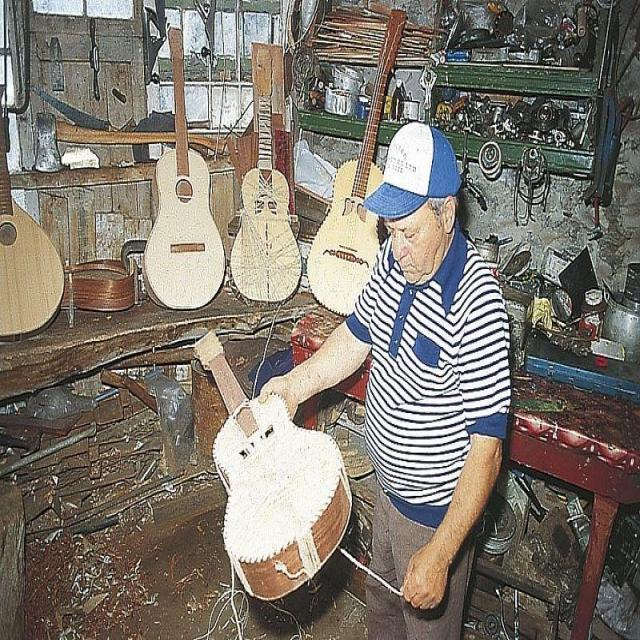acousticguitar: (195, 332, 350, 599), (307, 10, 405, 314), (143, 28, 224, 308), (230, 55, 301, 302), (0, 125, 63, 335)
